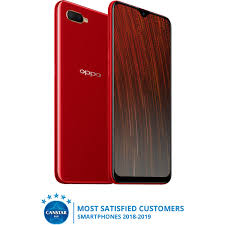oppo: (107, 1, 174, 187), (51, 1, 118, 187)
